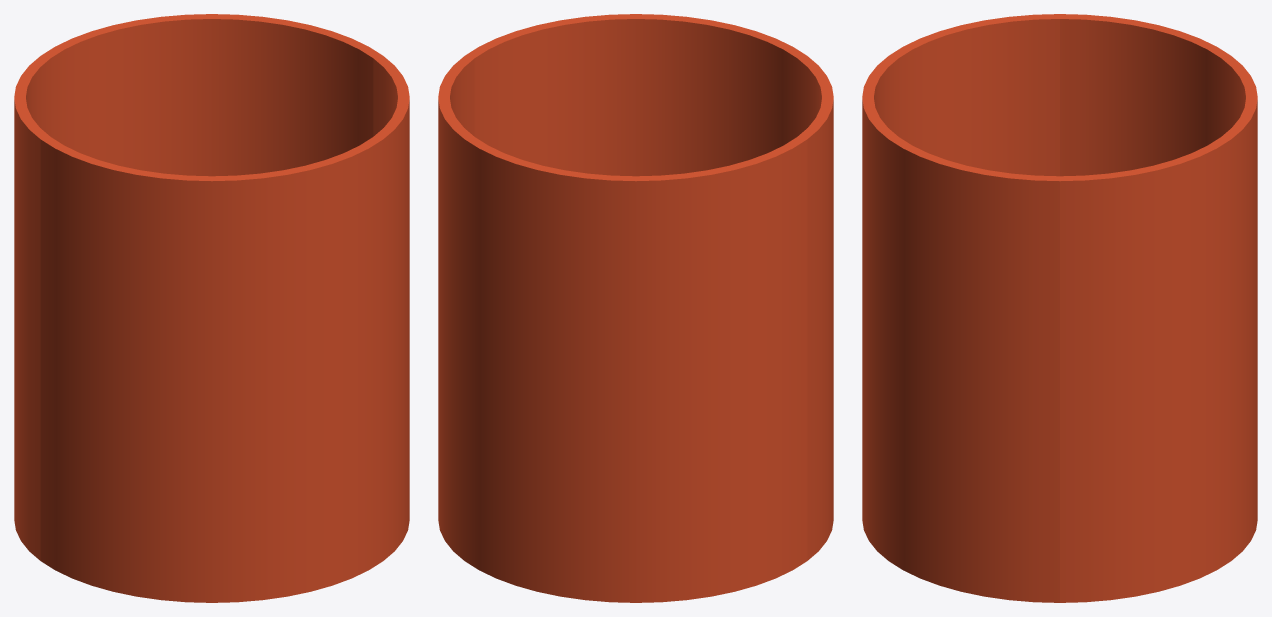
The model's file is water_softener_pressure.glb.
3 renders of one model, left to right at view 1: azimuth 30°, elevation 25°; view 2: azimuth 150°, elevation 25°; view 3: azimuth 270°, elevation 25°, orthographic.
Parts seen in each view (by area): view 1: pressure__front, pressure__back; view 2: pressure__back, pressure__front; view 3: pressure__back, pressure__front.
Boxes of the visible parts, bbox=[...] form: pressure__front: bbox=[40, 56, 409, 602]; pressure__back: bbox=[14, 14, 382, 560]; pressure__back: bbox=[438, 56, 807, 602]; pressure__front: bbox=[465, 14, 833, 560]; pressure__back: bbox=[1060, 14, 1257, 602]; pressure__front: bbox=[862, 14, 1059, 602].
Size of the model in its own units: 0.68 by 0.8 by 0.68.
